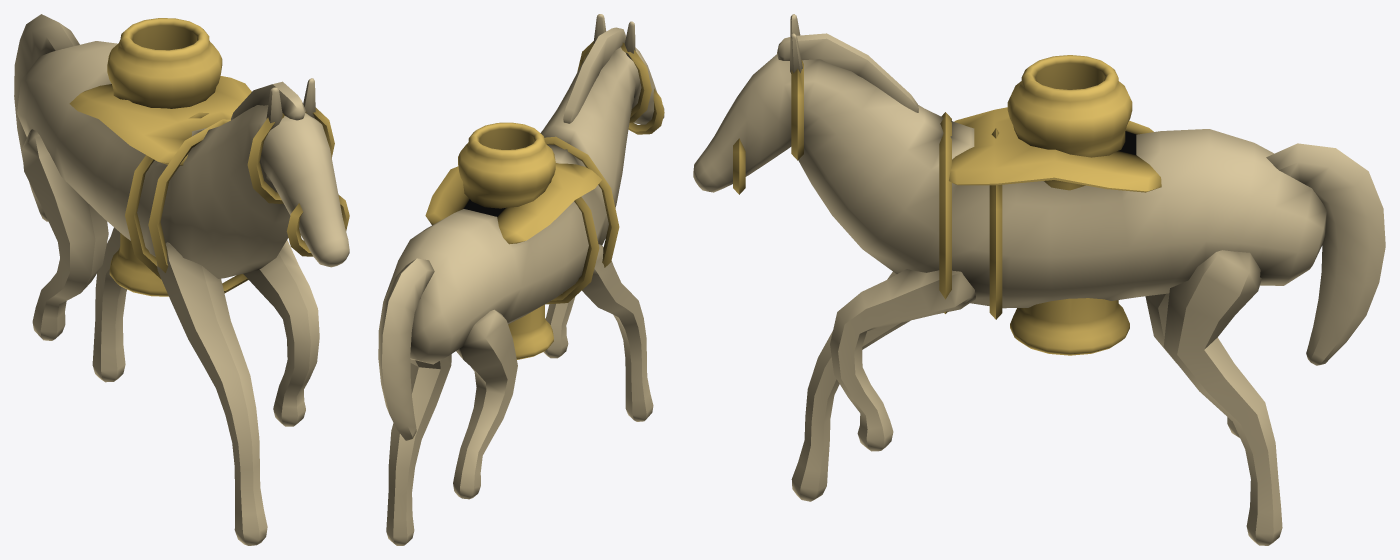
Rendered from carousel_horse.glb.
3 renders of one model, left to right at view 1: azimuth 30°, elevation 25°; view 2: azimuth 150°, elevation 25°; view 3: azimuth 270°, elevation 25°, orthographic. The views are drawn at different scales.
Visible parts, largest first — view 1: CarouselHorse_Body, CarouselHorse_Sleeve; view 2: CarouselHorse_Body, CarouselHorse_Sleeve; view 3: CarouselHorse_Body, CarouselHorse_Sleeve.
Part boxes in pixels (x1=…): CarouselHorse_Body: x1=14, y1=14, x2=349, y2=545; CarouselHorse_Sleeve: x1=107, y1=18, x2=222, y2=296; CarouselHorse_Body: x1=378, y1=14, x2=664, y2=545; CarouselHorse_Sleeve: x1=458, y1=122, x2=555, y2=359; CarouselHorse_Body: x1=693, y1=14, x2=1385, y2=545; CarouselHorse_Sleeve: x1=1007, y1=55, x2=1132, y2=355.
Bounding box in the file's own units: 0.008 × 0.024 × 0.03.
